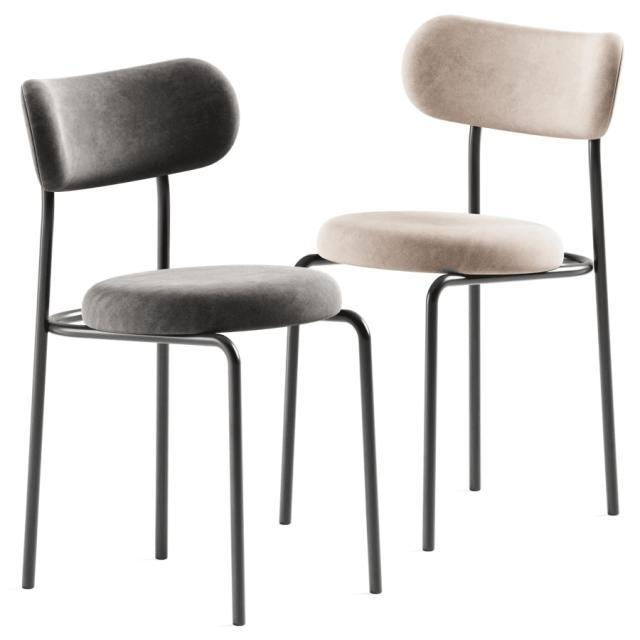chair: (11, 54, 386, 628), (275, 6, 629, 550), (13, 52, 344, 298), (317, 16, 624, 268)
